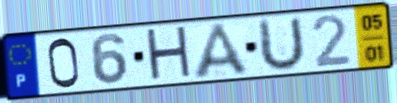0: (46, 36, 81, 90)
2: (309, 13, 354, 70)
6: (88, 31, 128, 87)
A: (191, 21, 253, 81)
H: (143, 24, 196, 85)
U: (258, 14, 308, 74)
